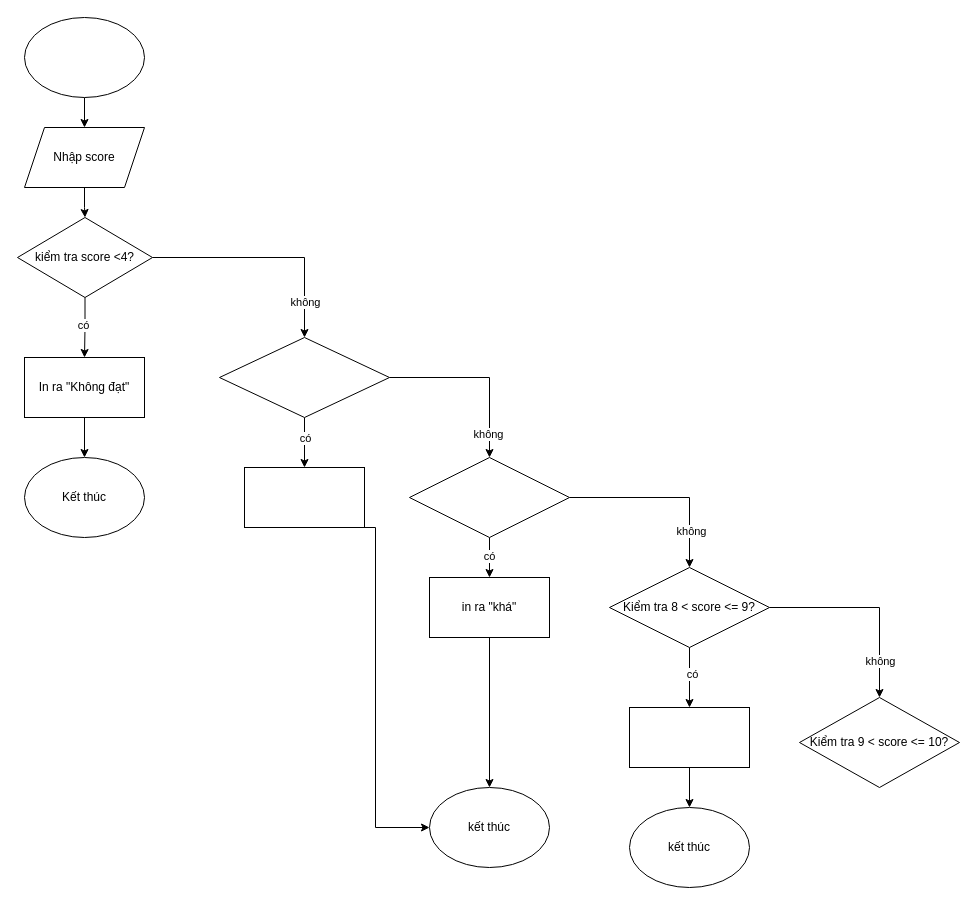
This 977x905 diagram has some shape labels left out. The centre of each missing label's shape, as x and y in pixels:
in "trung bình": [304,497]
in ra "giỏi": [689,737]
Ki ể m tra 6 < score <= 8 ?: [489,497]
Kiểm tra 4 <= score <= 6?: [304,377]
Start: [84,57]
